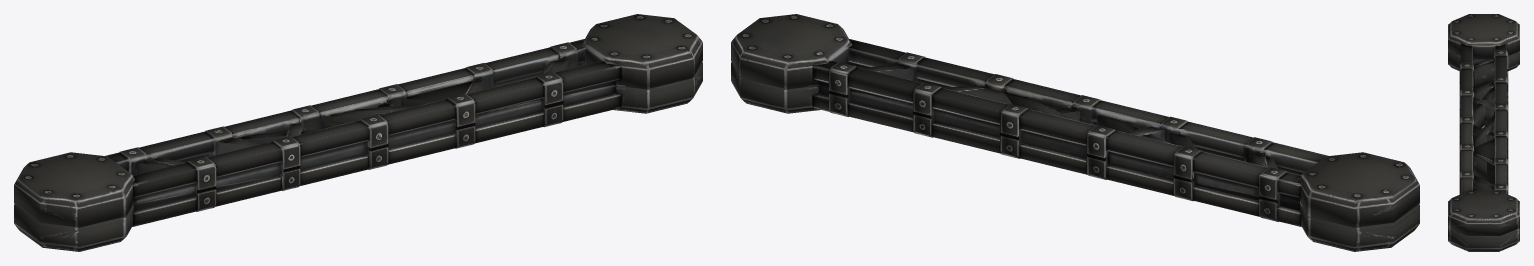
The model's file is cold-iron-v2-rod-c-lattice.glb.
3 renders of one model, left to right at view 1: azimuth 30°, elevation 25°; view 2: azimuth 150°, elevation 25°; view 3: azimuth 270°, elevation 25°, orthographic. The views are drawn at different scales.
Parts seen in each view (by area): view 1: tripo_node_e626ba32-1b9a-4545-87b7-e5251e600d4f; view 2: tripo_node_e626ba32-1b9a-4545-87b7-e5251e600d4f; view 3: tripo_node_e626ba32-1b9a-4545-87b7-e5251e600d4f.
Part boxes in pixels (left/top/right/bottom): tripo_node_e626ba32-1b9a-4545-87b7-e5251e600d4f: left=14, top=14, right=702, bottom=251; tripo_node_e626ba32-1b9a-4545-87b7-e5251e600d4f: left=731, top=14, right=1419, bottom=251; tripo_node_e626ba32-1b9a-4545-87b7-e5251e600d4f: left=1448, top=14, right=1519, bottom=251.
Bounding box in the file's own units: 0.998 × 0.0762 × 0.1465.
Materials: 1 (1 with a texture image).
